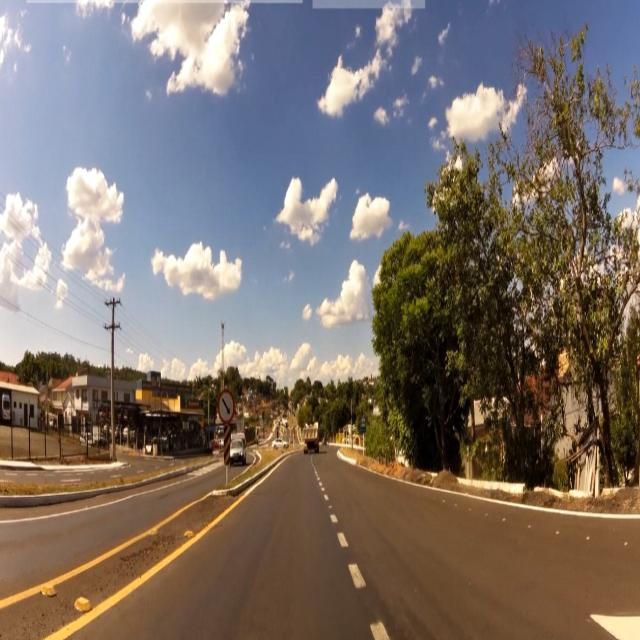R-24b: (218, 392, 234, 422)
